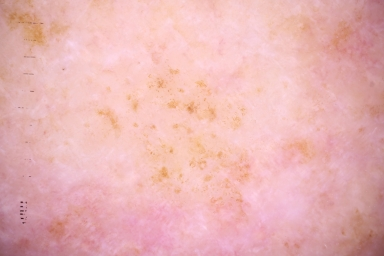nevus: (98, 67, 237, 191)
